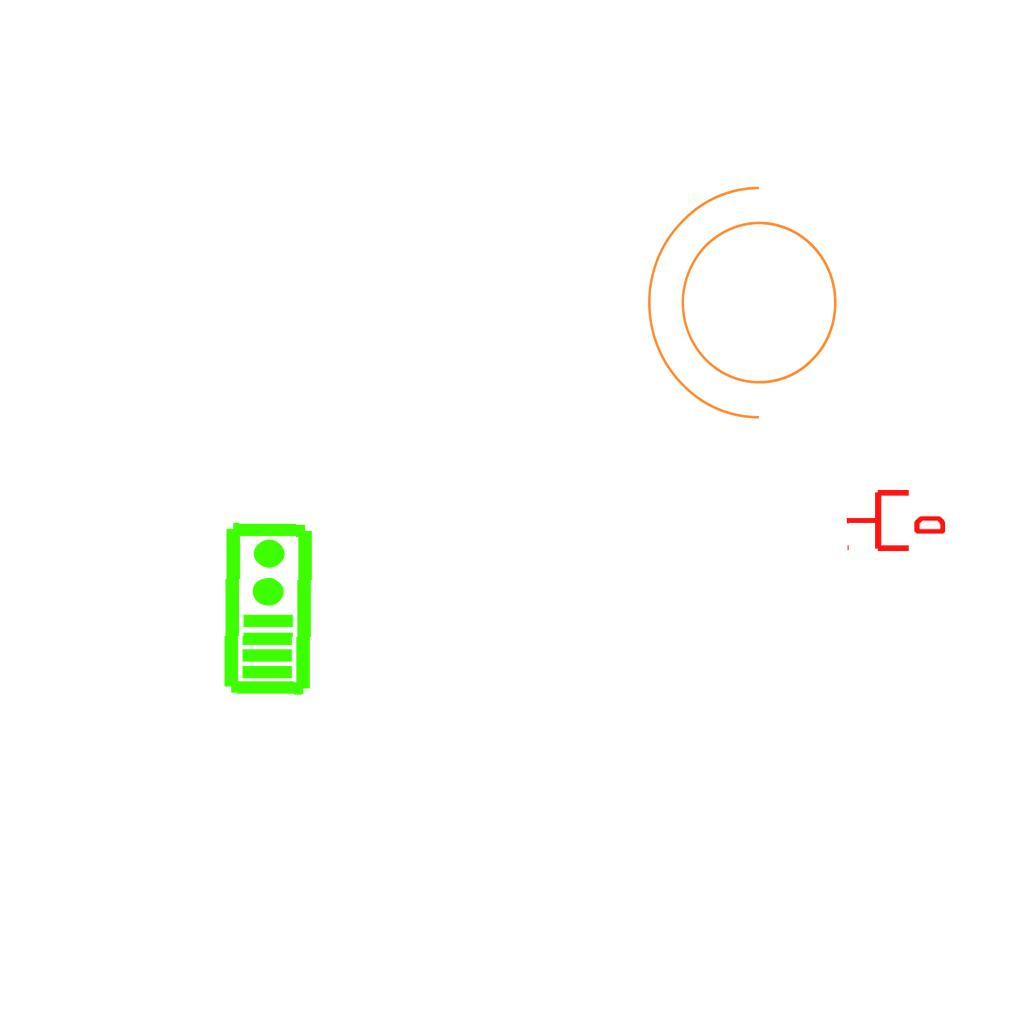Datenanschluss_einfach: (845, 486, 945, 555)
Gegensprechanlage_mit_Video: (217, 519, 316, 697)
Scheinwerfer_fuer_Alarmbeleuchtung: (637, 177, 862, 441)
